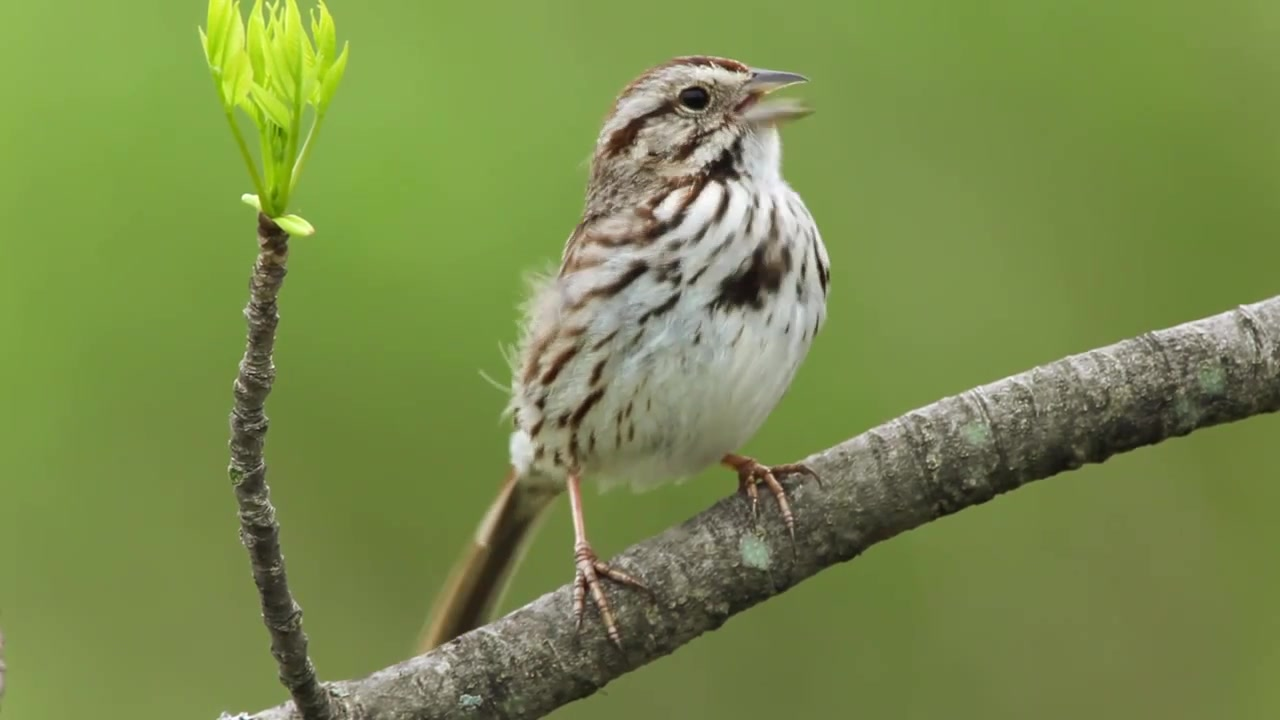bird: (422, 53, 837, 665)
